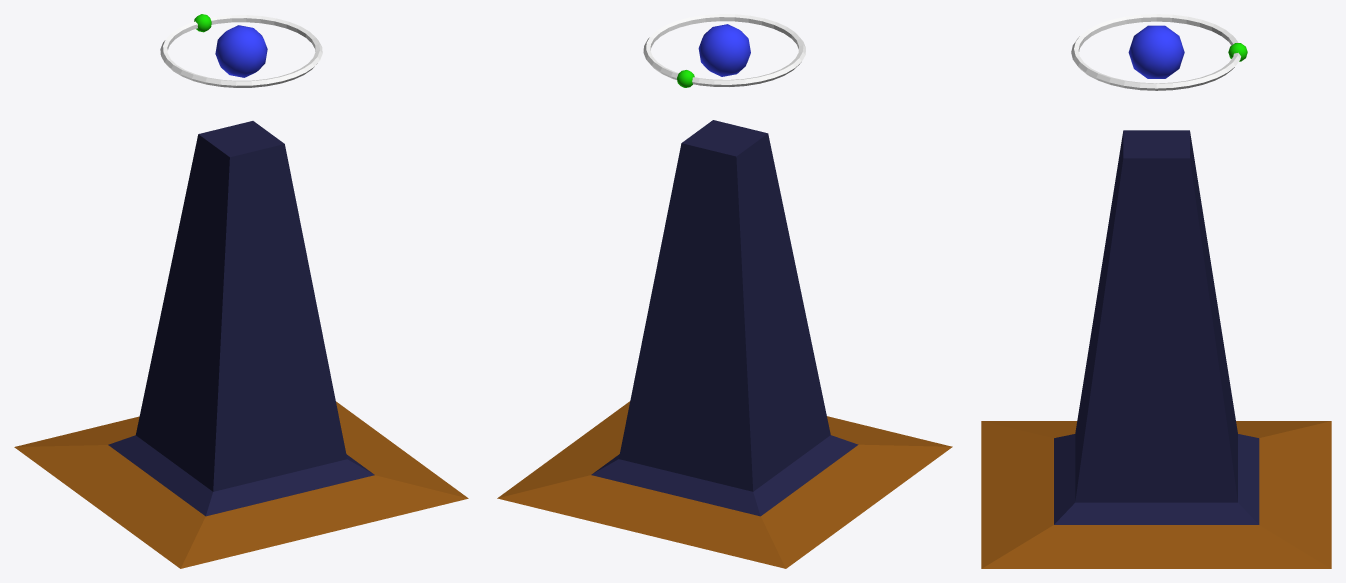
Rendered from HydrogenTowerBlender.fbx.
The picture shows the model from 3 angles, left to right: view 1: azimuth 30°, elevation 25°; view 2: azimuth 150°, elevation 25°; view 3: azimuth 270°, elevation 25°; orthographic projection. The views are drawn at different scales.
Parts seen in each view (by area): view 1: Tower, TowerBase.001, Orbital, Nucleus; view 2: Tower, TowerBase.001, Orbital, Nucleus; view 3: Tower, TowerBase.001, Orbital, Nucleus.
Boxes of the visible parts, box(x1,y1,x2,y2) form: Tower: box(108, 121, 374, 516); TowerBase.001: box(14, 401, 468, 568); Orbital: box(160, 15, 322, 87); Nucleus: box(215, 25, 267, 77); Tower: box(591, 120, 858, 516); TowerBase.001: box(497, 401, 952, 568); Orbital: box(643, 14, 805, 86); Nucleus: box(698, 24, 750, 76); Tower: box(1054, 130, 1259, 524); TowerBase.001: box(981, 421, 1331, 568); Orbital: box(1071, 14, 1240, 90); Nucleus: box(1128, 25, 1184, 78).
Bounding box in the file's own units: 430 × 635 × 430.
